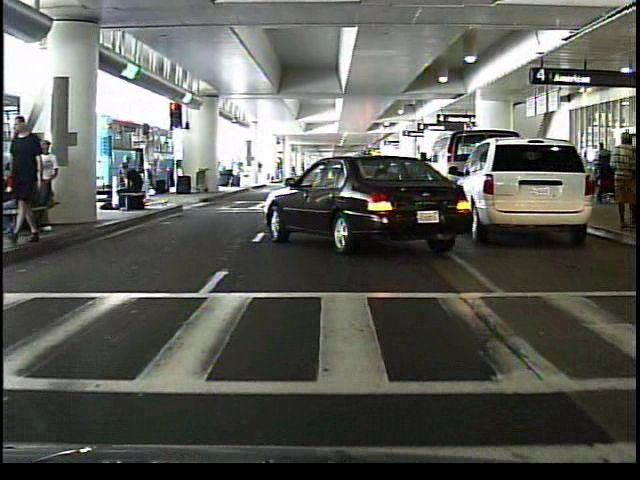person: (604, 131, 636, 232), (110, 161, 145, 213)
